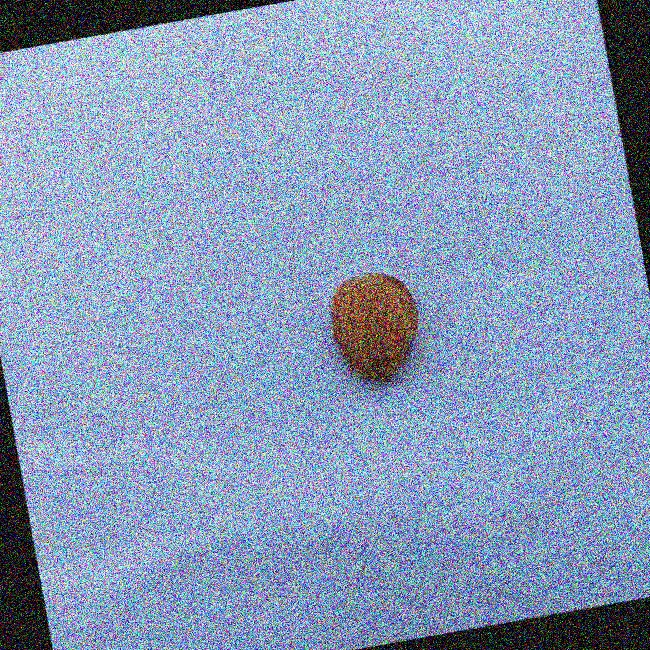grade1: (313, 259, 436, 399)
